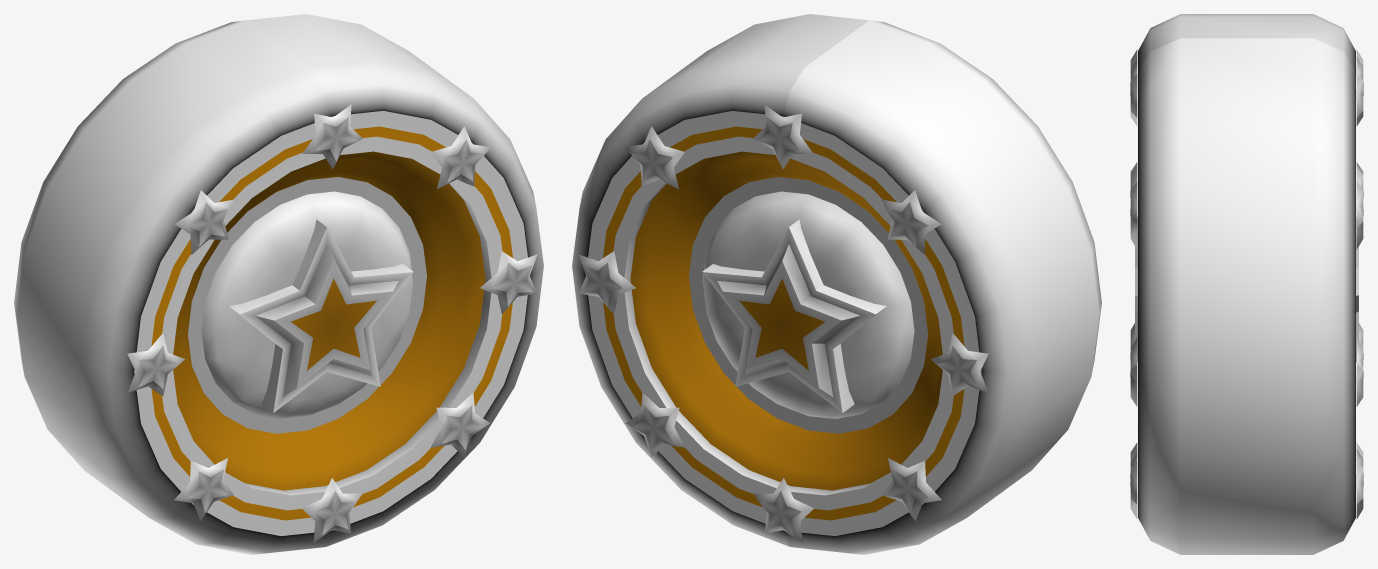
Rendered from obj_dekotora_xlwheel.fbx.
3 renders of one model, left to right at view 1: azimuth 30°, elevation 25°; view 2: azimuth 150°, elevation 25°; view 3: azimuth 270°, elevation 25°, orthographic. The views are drawn at different scales.
Parts seen in each view (by area): view 1: Cylinder.050, Cylinder.051, Cylinder.052, Cylinder.053; view 2: Cylinder.050, Cylinder.051, Cylinder.052, Cylinder.053; view 3: Cylinder.051, Cylinder.053, Cylinder.052.
Boxes of the visible parts, x1,y1,x2,y2 form: Cylinder.050: (134, 110, 530, 536); Cylinder.051: (14, 14, 543, 554); Cylinder.052: (229, 219, 413, 412); Cylinder.053: (127, 104, 537, 542); Cylinder.050: (585, 110, 981, 536); Cylinder.051: (572, 14, 1101, 554); Cylinder.052: (702, 219, 886, 412); Cylinder.053: (578, 104, 988, 542); Cylinder.051: (1138, 14, 1355, 554); Cylinder.053: (1130, 49, 1363, 519); Cylinder.052: (1135, 217, 1358, 361).
Size of the model in its own units: 5 by 5 by 2.15.
